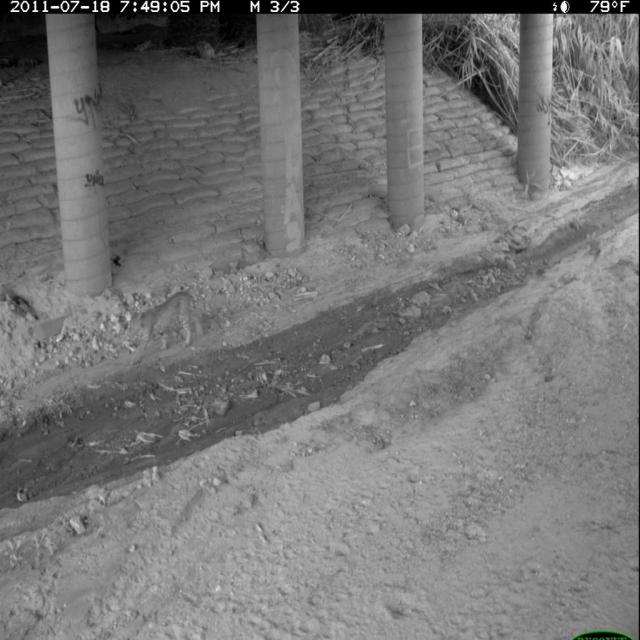bobcat: (127, 286, 207, 370)
